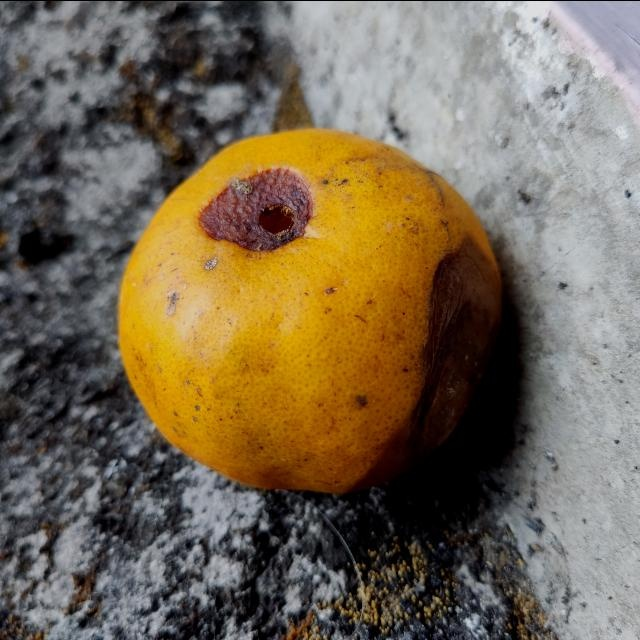agrume: (117, 125, 507, 495)
